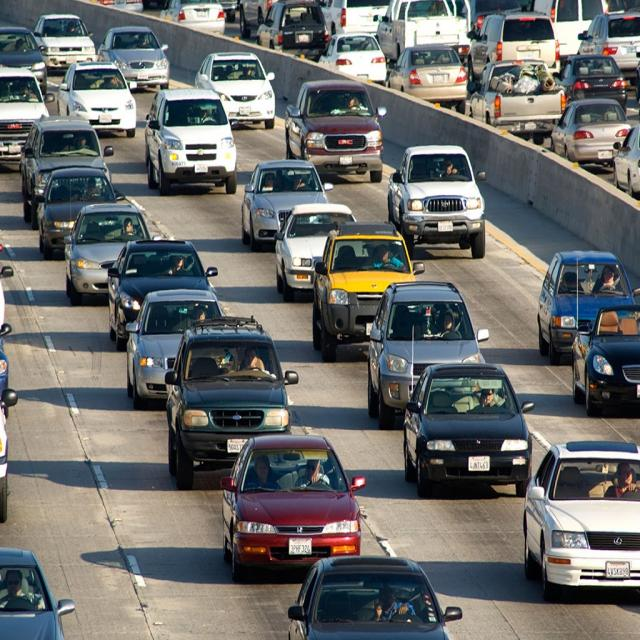car: (222, 431, 365, 571), (166, 331, 297, 474), (369, 282, 490, 428), (404, 363, 534, 495), (290, 543, 458, 640), (315, 231, 418, 344), (542, 243, 632, 365), (114, 234, 218, 338), (392, 134, 484, 249), (279, 199, 360, 310), (71, 205, 163, 302), (244, 160, 335, 247)
